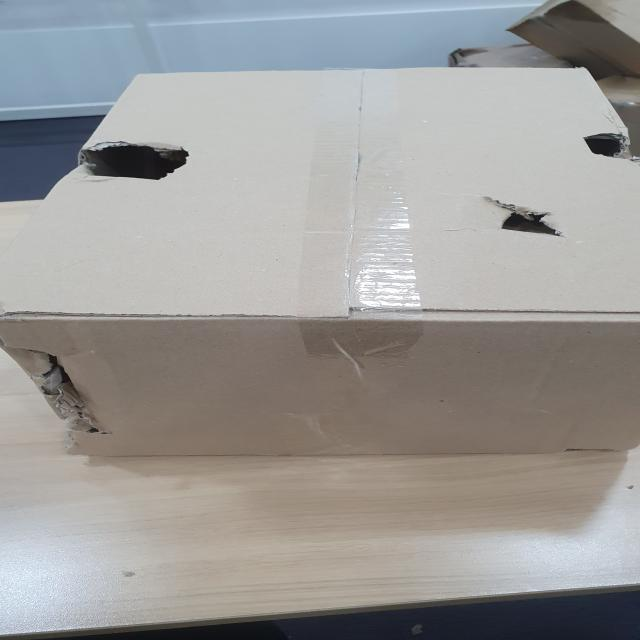hole: (18, 347, 112, 434), (477, 192, 569, 251), (84, 141, 194, 190), (572, 129, 638, 168)
